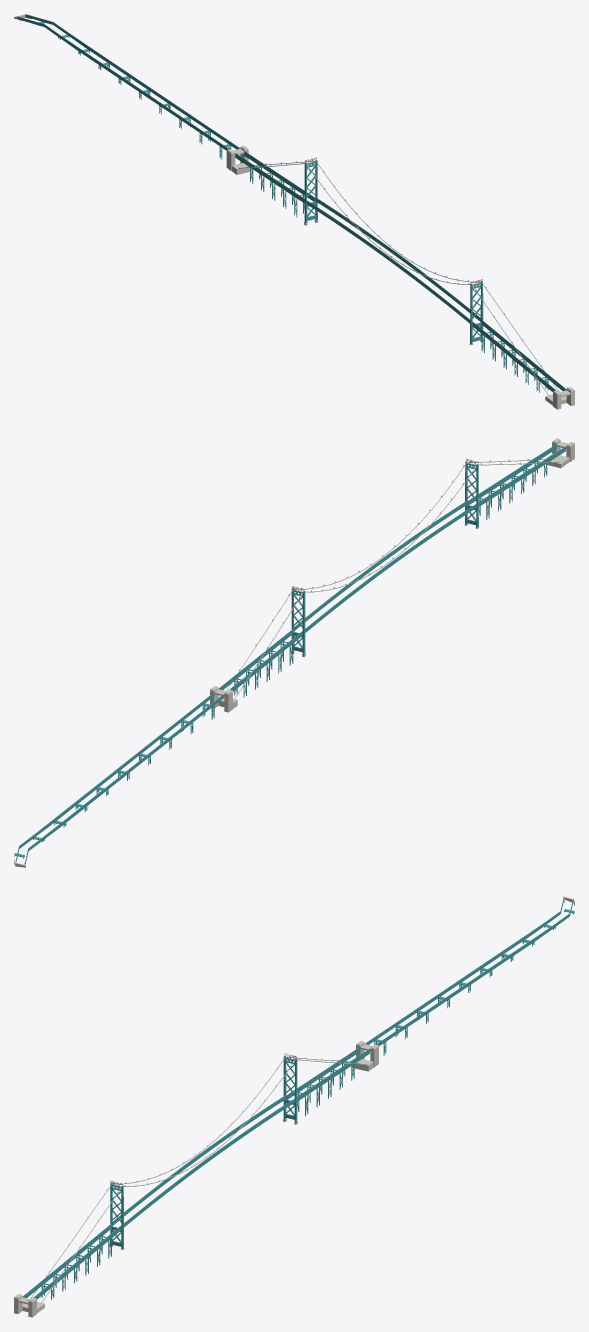
The model's file is det-ambassador-bridge.glb.
3 renders of one model, top to bottom at view 1: azimuth 30°, elevation 25°; view 2: azimuth 150°, elevation 25°; view 3: azimuth 330°, elevation 25°, orthographic. The views are drawn at different scales.
Parts seen in each view (by area): view 1: Ambassador Bridge; view 2: Ambassador Bridge; view 3: Ambassador Bridge.
Boxes of the visible parts, x1,y1,x2,y2 form: Ambassador Bridge: (14,14,574,409); Ambassador Bridge: (14,438,574,867); Ambassador Bridge: (14,896,574,1317).
Size of the model in its own units: 53.8 by 121 by 1809.
